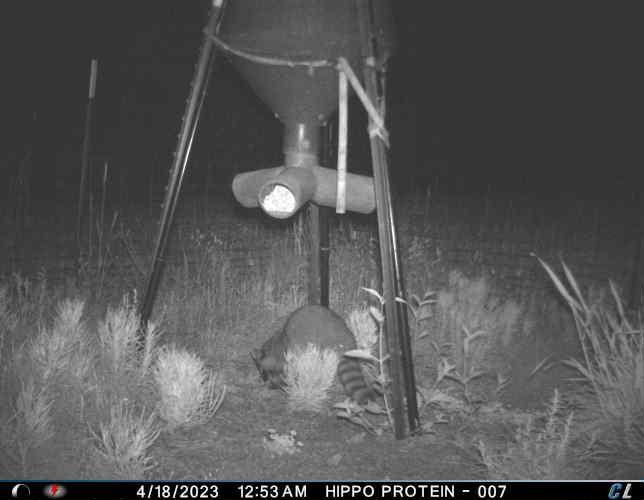Raccoon: (248, 301, 377, 414)
